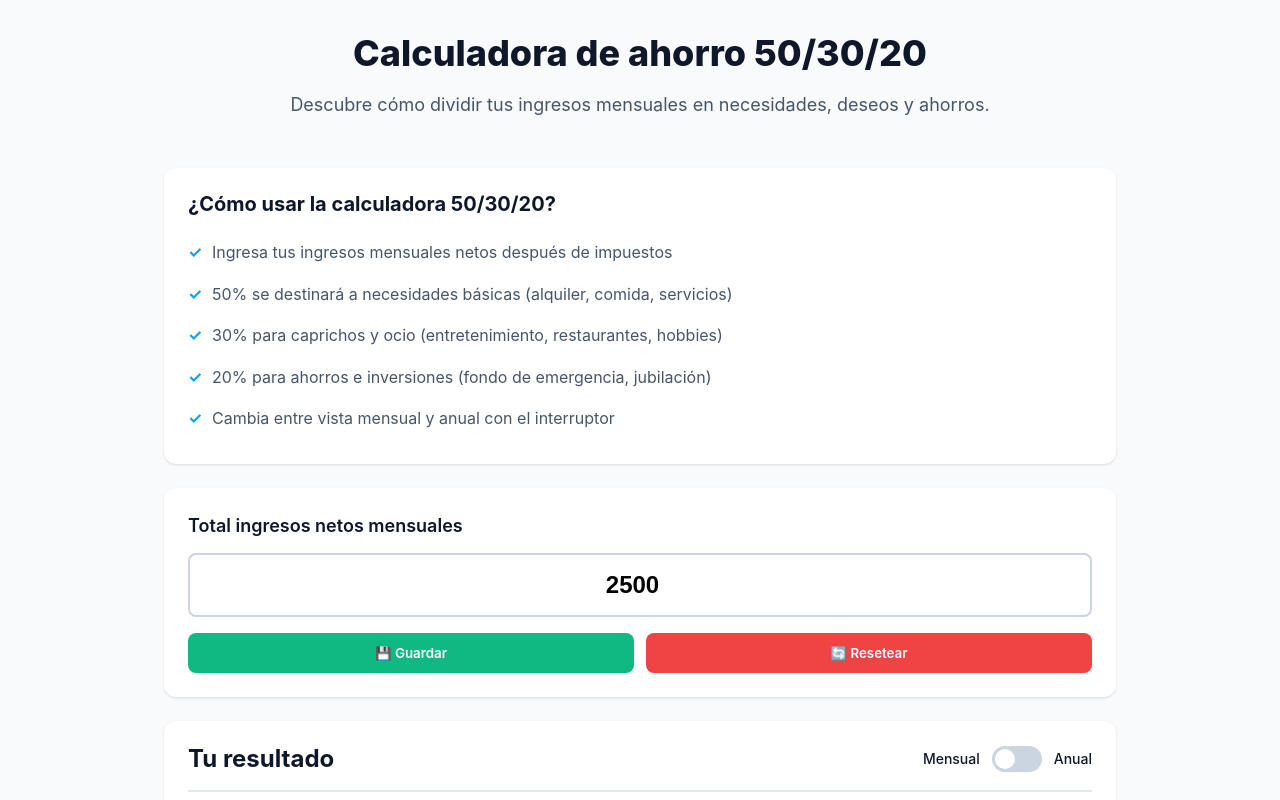
Scenario: CalculadoraAhorros Component › permite resetear la calculadora
The width and height of the screenshot is (1280, 800).
Expected: the heading "Calculadora de ahorro 50/30/20" is shown, [353,31,927,75]
// Hacer clic en resetear
Click the button "🔄 Resetear": x=869, y=653 [646,633,1092,673]
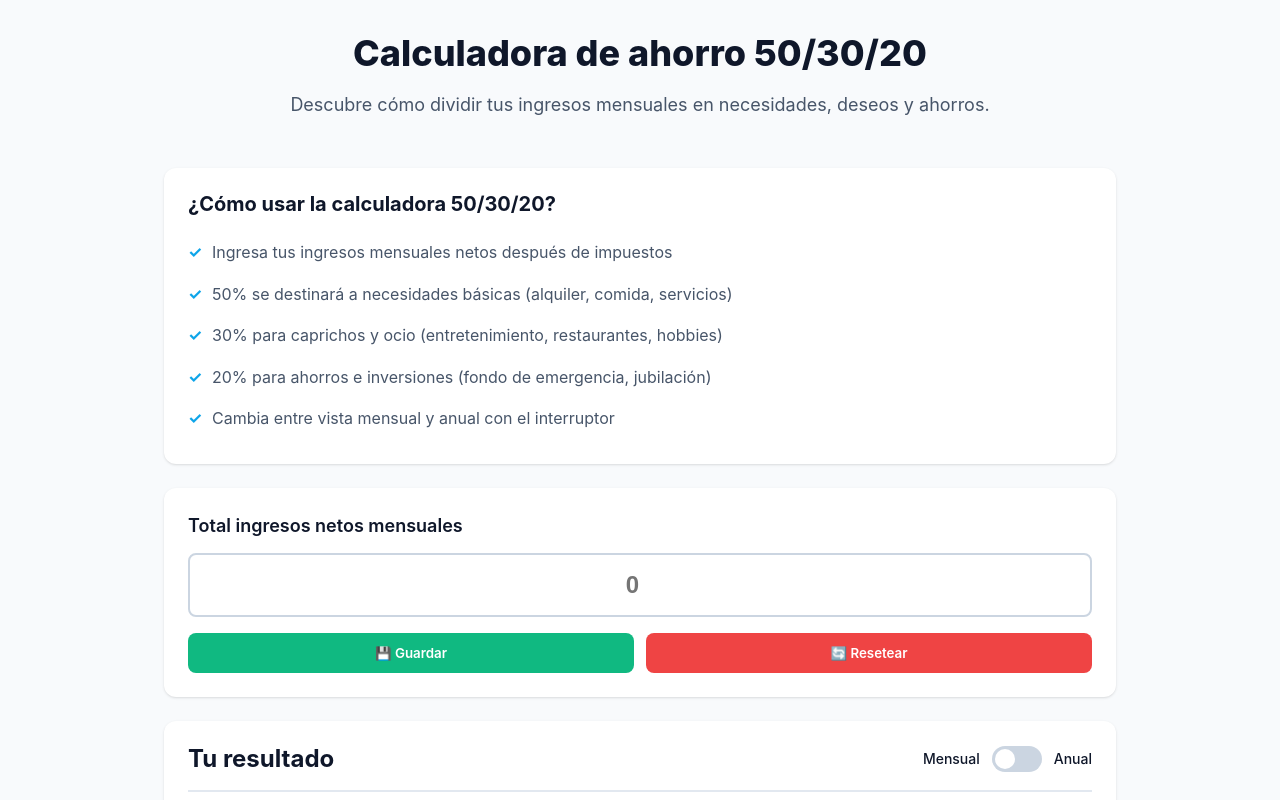
Result: the number field with placeholder "0" is empty at [188,553,1092,617]
